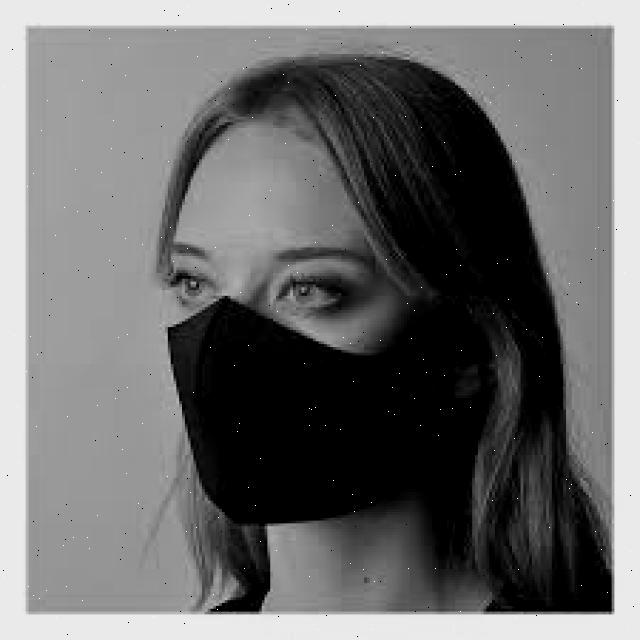fake: (161, 299, 439, 529)
real: (164, 118, 422, 538)
